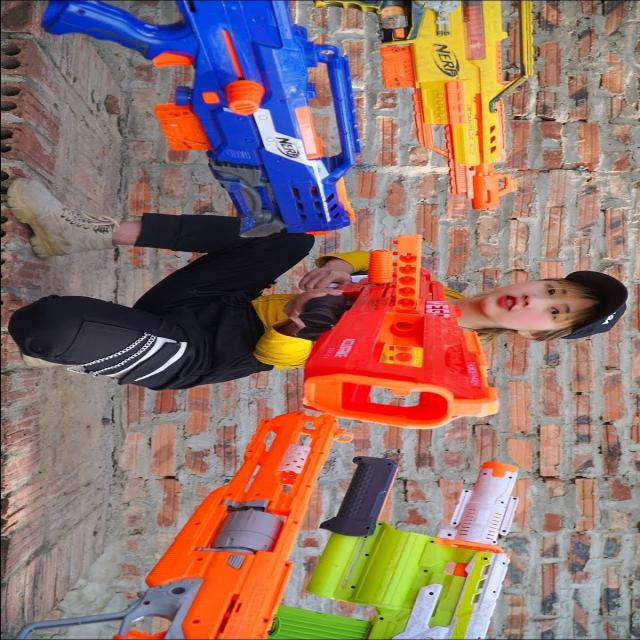Nerf gun: (40, 1, 372, 239), (26, 405, 360, 640), (269, 448, 527, 640), (313, 0, 542, 214), (290, 229, 512, 428)
